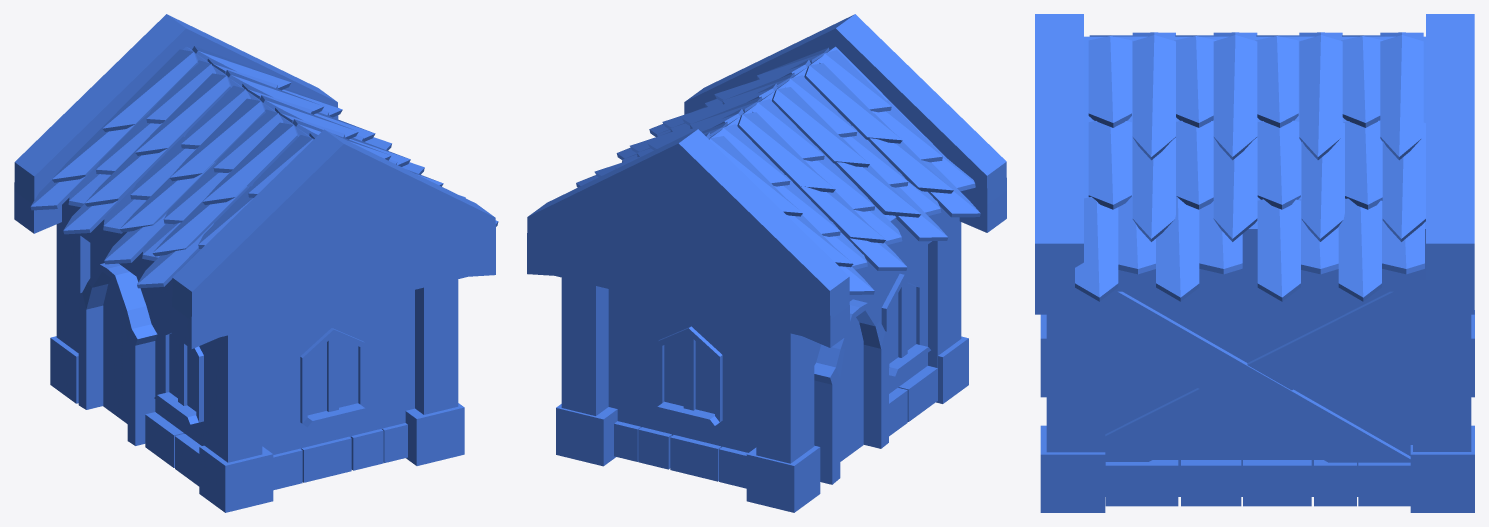
The model's file is House_Variant2.fbx.
3 renders of one model, left to right at view 1: azimuth 30°, elevation 25°; view 2: azimuth 150°, elevation 25°; view 3: azimuth 270°, elevation 25°, orthographic. The views are drawn at different scales.
Visible parts, largest first — view 1: House_Variant2; view 2: House_Variant2; view 3: House_Variant2.
Part boxes in pixels (bbox=[...]): House_Variant2: bbox=[14, 14, 498, 512]; House_Variant2: bbox=[527, 14, 1006, 512]; House_Variant2: bbox=[1035, 14, 1474, 512].
Size of the model in its own units: 291 by 275 by 258.
